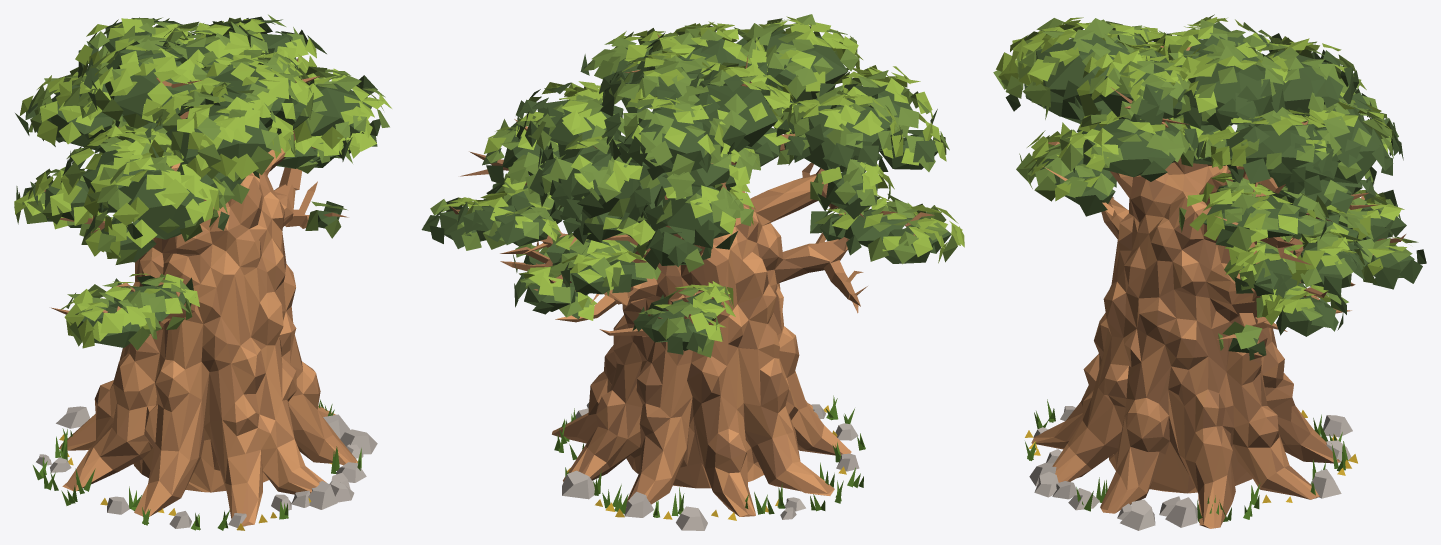
Rendered from giant_baobab_bloom.glb.
The picture shows the model from 3 angles, left to right: view 1: azimuth 30°, elevation 25°; view 2: azimuth 150°, elevation 25°; view 3: azimuth 270°, elevation 25°; orthographic projection. The views are drawn at different scales.
Visible parts, largest first — view 1: giant_baobab_bloom; view 2: giant_baobab_bloom; view 3: giant_baobab_bloom.
Part boxes in pixels (x1=…): giant_baobab_bloom: x1=14, y1=14, x2=391, y2=530; giant_baobab_bloom: x1=421, y1=14, x2=964, y2=530; giant_baobab_bloom: x1=993, y1=14, x2=1426, y2=530.
Bounding box in the file's own units: 27.83 × 26.74 × 25.07.
